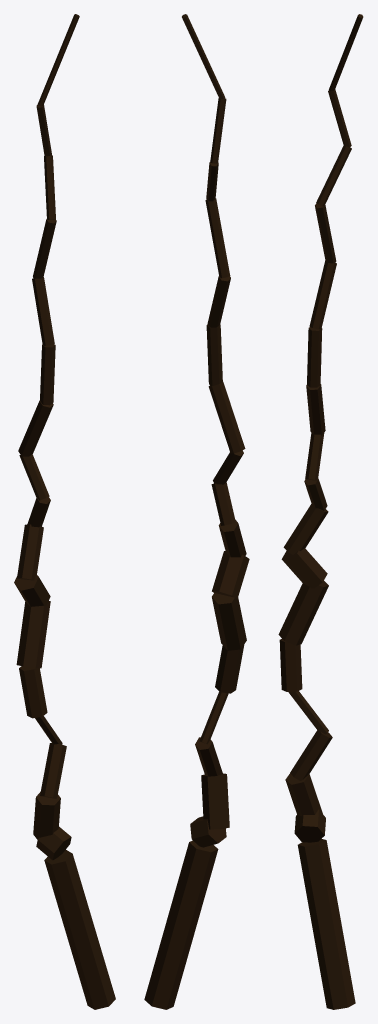
The model's file is tree_546_no_leaf.obj.
The picture shows the model from 3 angles, left to right: view 1: azimuth 30°, elevation 25°; view 2: azimuth 210°, elevation 25°; view 3: azimuth 330°, elevation 25°; orthographic projection. The views are drawn at different scales.
Parts seen in each view (by area): view 1: TrunkAndBranches; view 2: TrunkAndBranches; view 3: TrunkAndBranches.
Part boxes in pixels (x1=…): TrunkAndBranches: x1=14, y1=14, x2=115, y2=1009; TrunkAndBranches: x1=144, y1=14, x2=249, y2=1009; TrunkAndBranches: x1=278, y1=14, x2=363, y2=1009.
Bounding box in the file's own units: 0.1558 × 1.77 × 0.1298.
